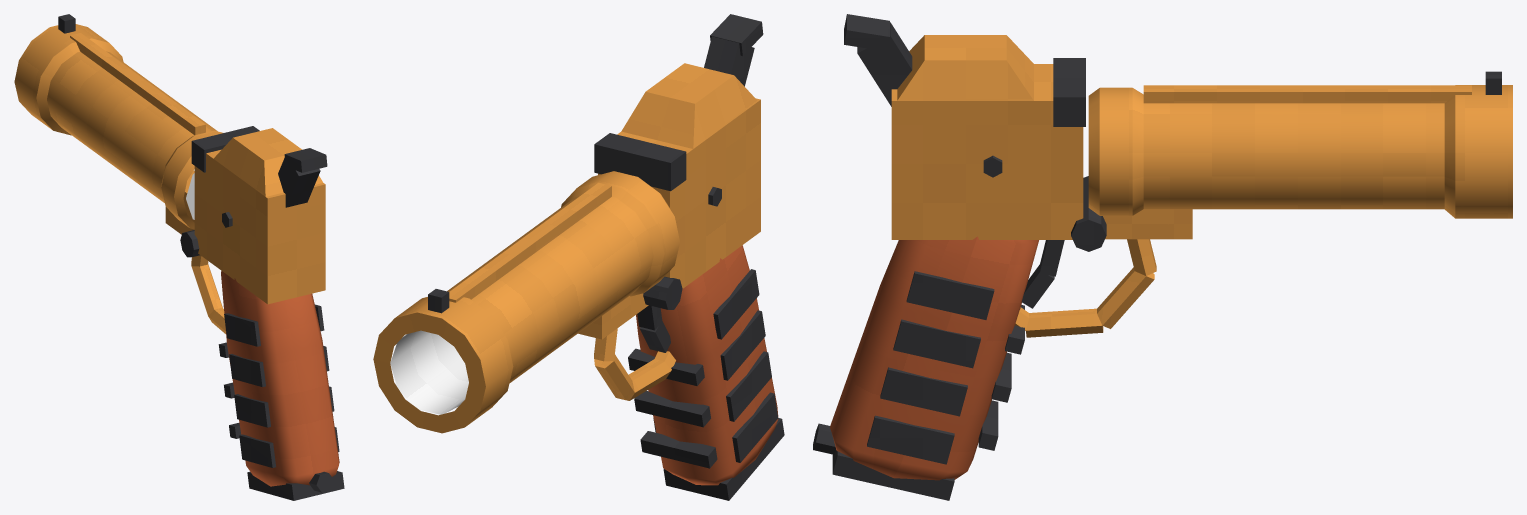
File: item_flare_gun.glb
3 renders of one model, left to right at view 1: azimuth 30°, elevation 25°; view 2: azimuth 150°, elevation 25°; view 3: azimuth 270°, elevation 25°, orthographic. The views are drawn at different scales.
Visible parts, largest first — view 1: flare_gun, barrel; view 2: flare_gun, barrel; view 3: flare_gun, barrel.
Part boxes in pixels (box(x1,y1,x2,y2)): flare_gun: box(180, 126, 344, 500); barrel: box(14, 14, 222, 234); flare_gun: box(594, 14, 784, 500); barrel: box(373, 171, 679, 433); flare_gun: box(813, 14, 1156, 500); barrel: box(1088, 71, 1512, 239).
Size of the model in its own units: 0.05 by 0.1866 by 0.2558.
Materials: 4 (4 with a texture image).
